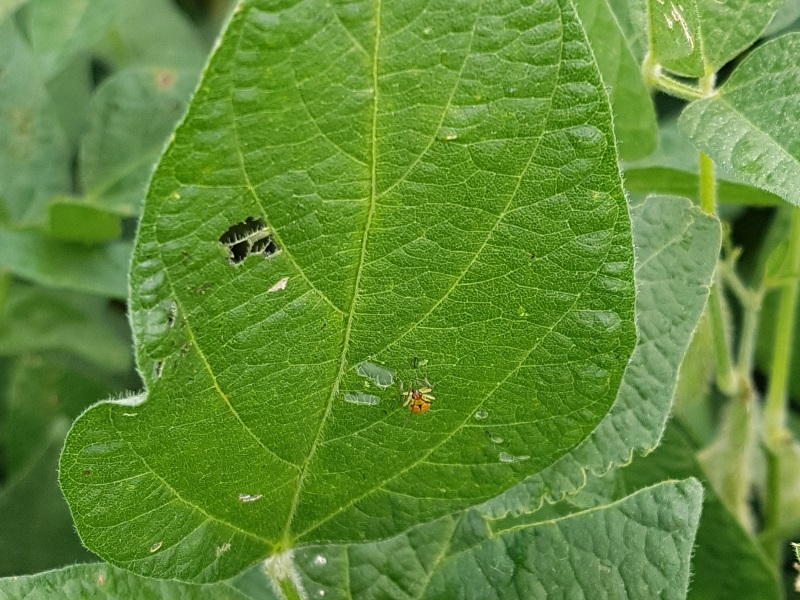Diabrotica_speciosa: (387, 369, 448, 428)
